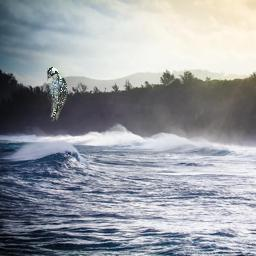Woodpecker: (47, 67, 67, 122)
